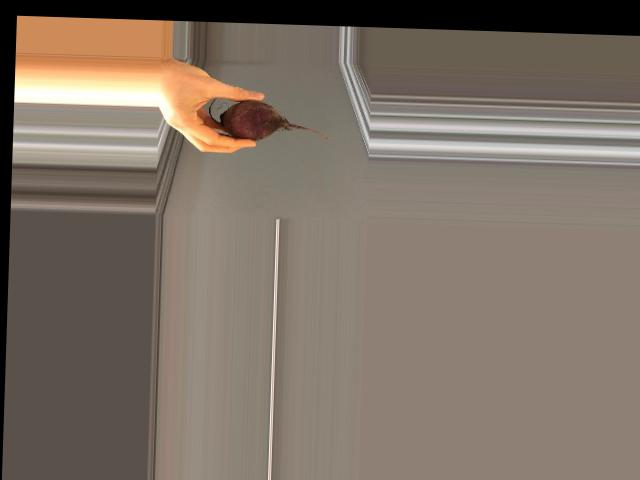beet: (209, 97, 335, 142)
